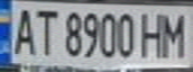0: (115, 9, 139, 60), (100, 9, 118, 60)
8: (60, 7, 84, 58)
9: (78, 8, 100, 59)
A: (6, 3, 39, 56)
H: (136, 9, 166, 58)
M: (157, 8, 190, 59)
T: (30, 6, 60, 56)
